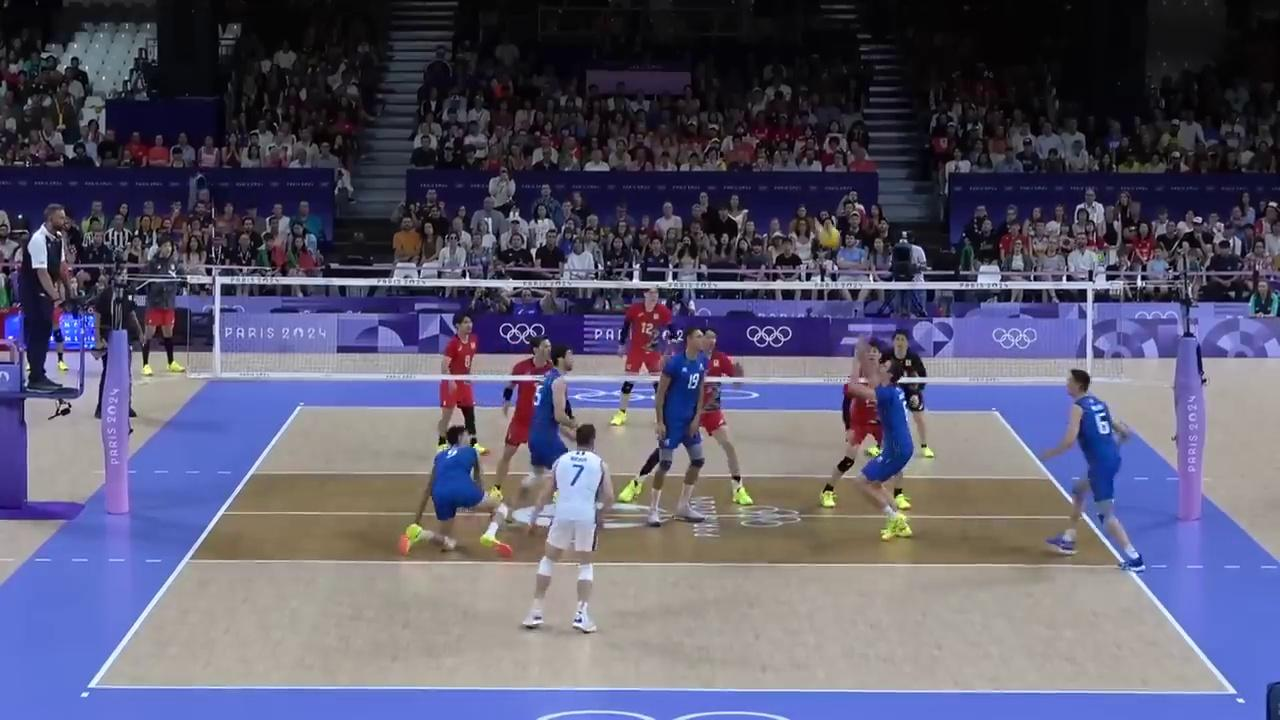ball: (820, 228, 840, 249)
